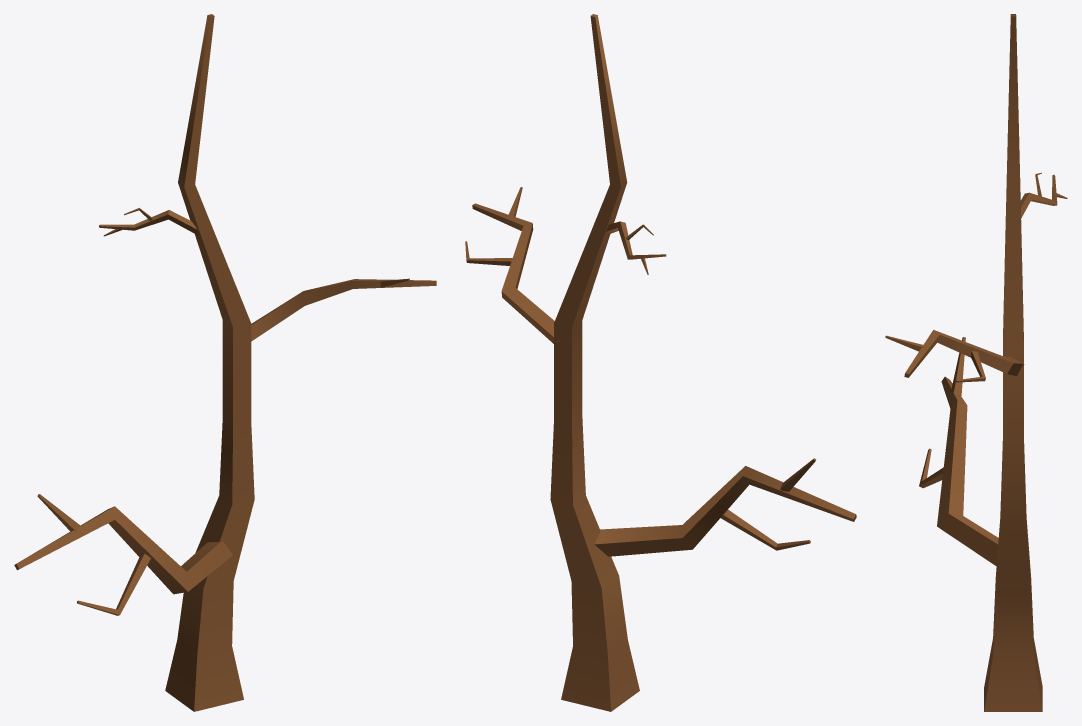
Rendered from goloe_derevo.fbx.
The picture shows the model from 3 angles, left to right: view 1: azimuth 30°, elevation 25°; view 2: azimuth 150°, elevation 25°; view 3: azimuth 270°, elevation 25°; orthographic projection.
Visible parts, largest first — view 1: Cube, Sweep_3, Sweep_2, Sweep_1_3, Sweep; view 2: Cube, Sweep_3, Sweep_2, Sweep_1_3; view 3: Cube, Sweep_3, Sweep_2, Sweep_1_3, Sweep_1_2, Sweep.
Boxes of the visible parts, box(x1,y1,x2,y2) form: Cube: box(165, 14, 254, 711); Sweep_3: box(16, 506, 232, 594); Sweep_2: box(251, 279, 436, 341); Sweep_1_3: box(38, 494, 150, 615); Sweep: box(99, 210, 198, 235); Cube: box(550, 14, 639, 711); Sweep_3: box(594, 466, 855, 556); Sweep_2: box(472, 203, 559, 343); Sweep_1_3: box(721, 458, 815, 550); Cube: box(984, 14, 1042, 711); Sweep_3: box(937, 376, 998, 566); Sweep_2: box(905, 330, 1024, 377); Sweep_1_3: box(919, 337, 965, 488); Sweep_1_2: box(886, 335, 985, 382); Sweep: box(1020, 174, 1057, 218).
Size of the model in its own units: 1605 by 2588 by 622.
